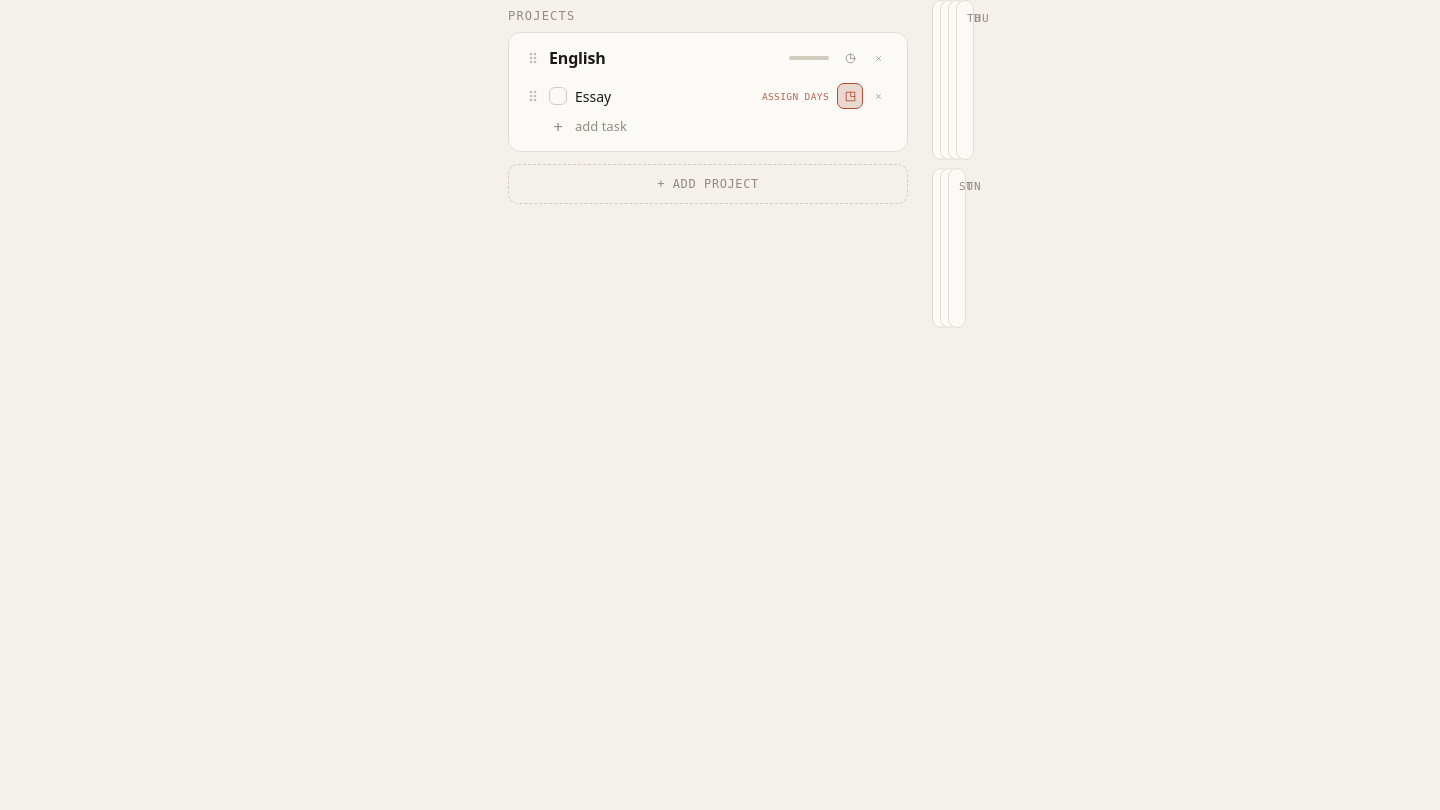
WeekBoard › asks before deleting a project that has tasks
This screenshot has width=1440, height=810.
Click the button named "Delete project" at (878,58), box [865, 45, 891, 71]
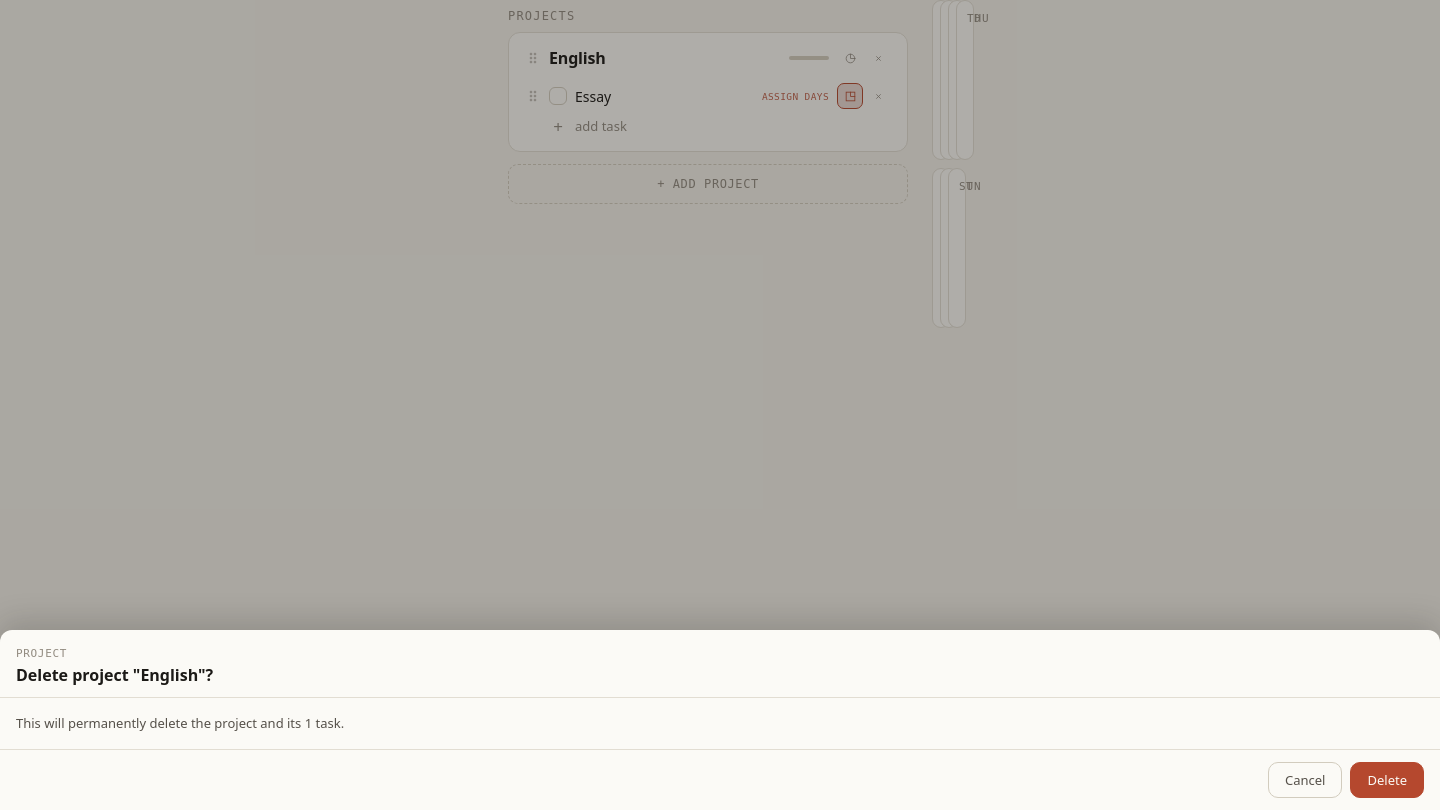
expect the dialog is shown: met, box [0, 630, 1439, 809]
